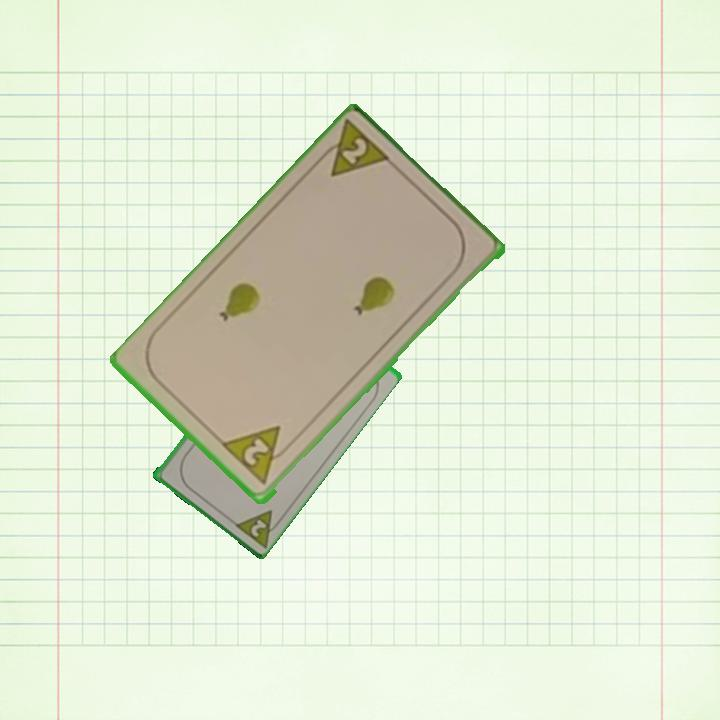2p: (312, 118, 396, 181), (229, 505, 286, 550), (239, 435, 272, 469)
